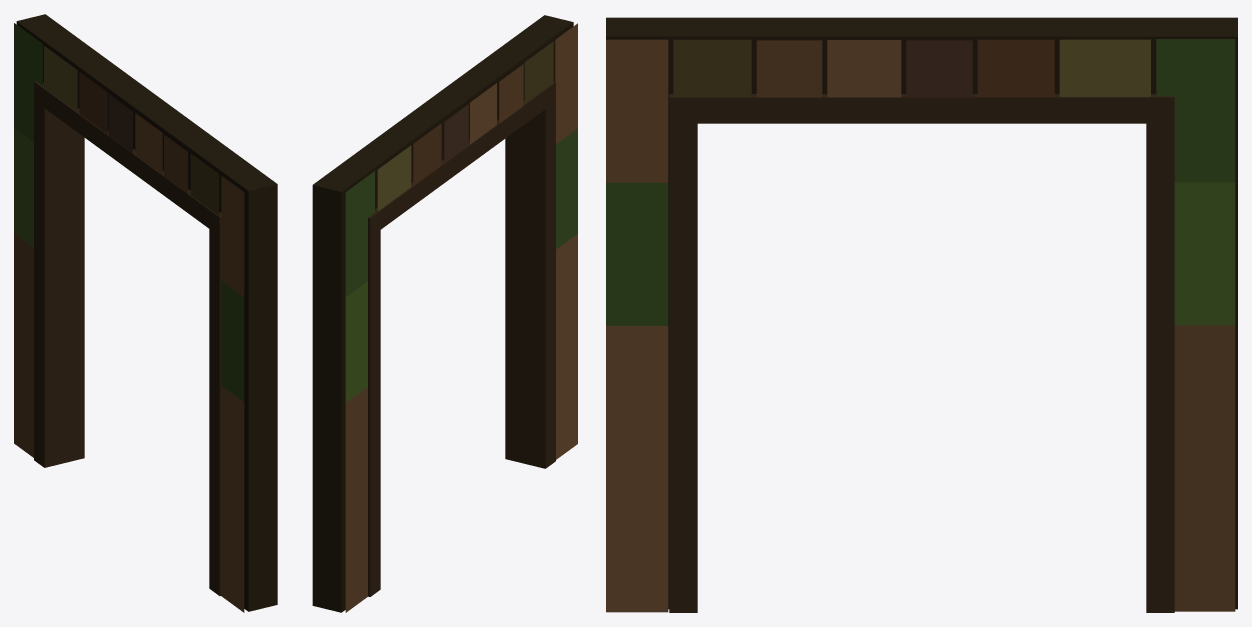
Rendered from wall-mossy-doorway.glb.
3 renders of one model, left to right at view 1: azimuth 30°, elevation 25°; view 2: azimuth 150°, elevation 25°; view 3: azimuth 270°, elevation 25°, orthographic. The views are drawn at different scales.
Parts seen in each view (by area): view 1: wall-mossy-doorway; view 2: wall-mossy-doorway; view 3: wall-mossy-doorway.
Boxes of the visible parts, x1=… form: wall-mossy-doorway: x1=14, y1=14, x2=277, y2=612; wall-mossy-doorway: x1=312, y1=15, x2=577, y2=612; wall-mossy-doorway: x1=606, y1=17, x2=1237, y2=612.
Bounding box in the file's own units: 0.1 × 1 × 1.
